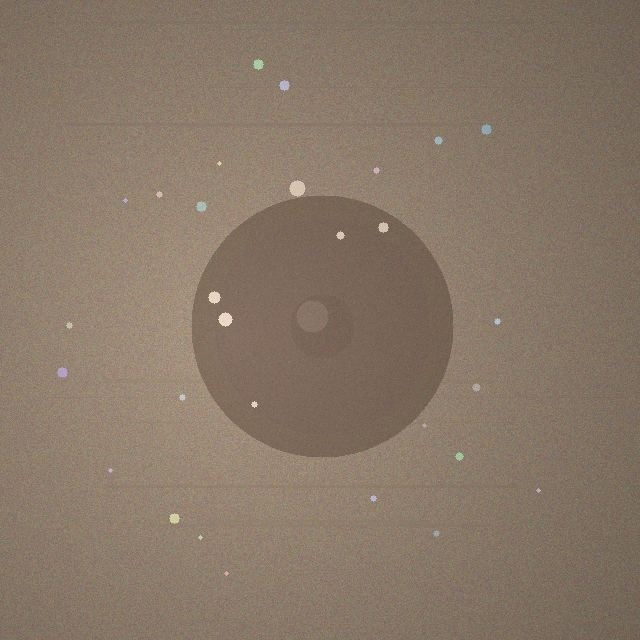overburn: (191, 195, 453, 457)
